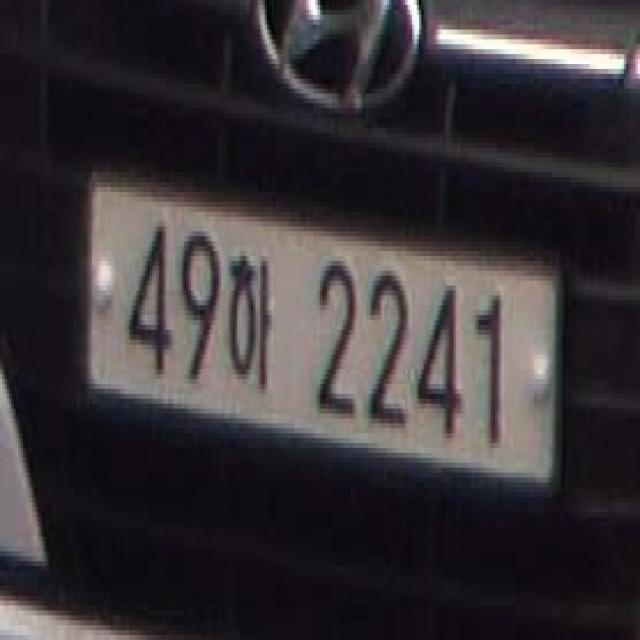1: (474, 282, 506, 456)
2: (366, 268, 409, 441), (318, 260, 356, 428)
4: (120, 217, 173, 382), (418, 276, 464, 443)
9: (181, 228, 221, 382)
ha: (227, 240, 276, 398)
license_plate: (84, 174, 564, 509)
